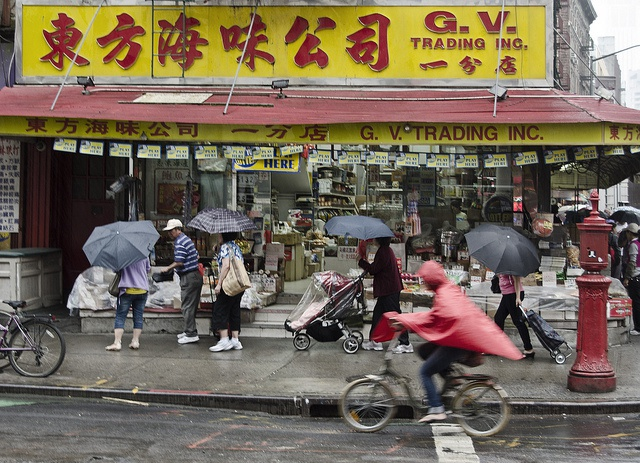non-vehicle: (339, 306, 510, 434), (2, 299, 66, 380)
